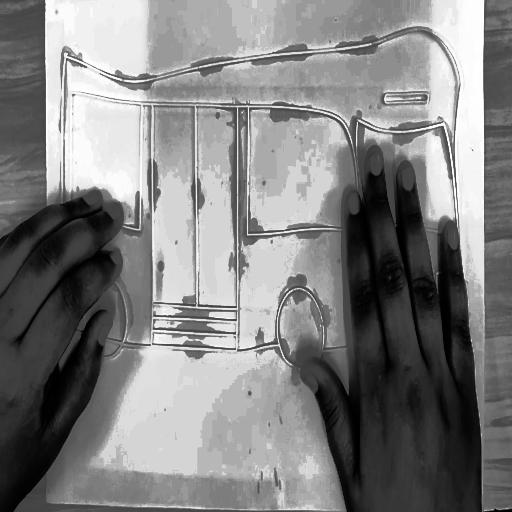bottom_left: (44, 496, 51, 506)
bus: (49, 15, 476, 377)
